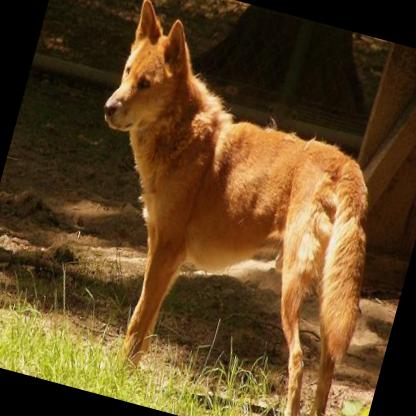dingo: (30, 0, 416, 416)
